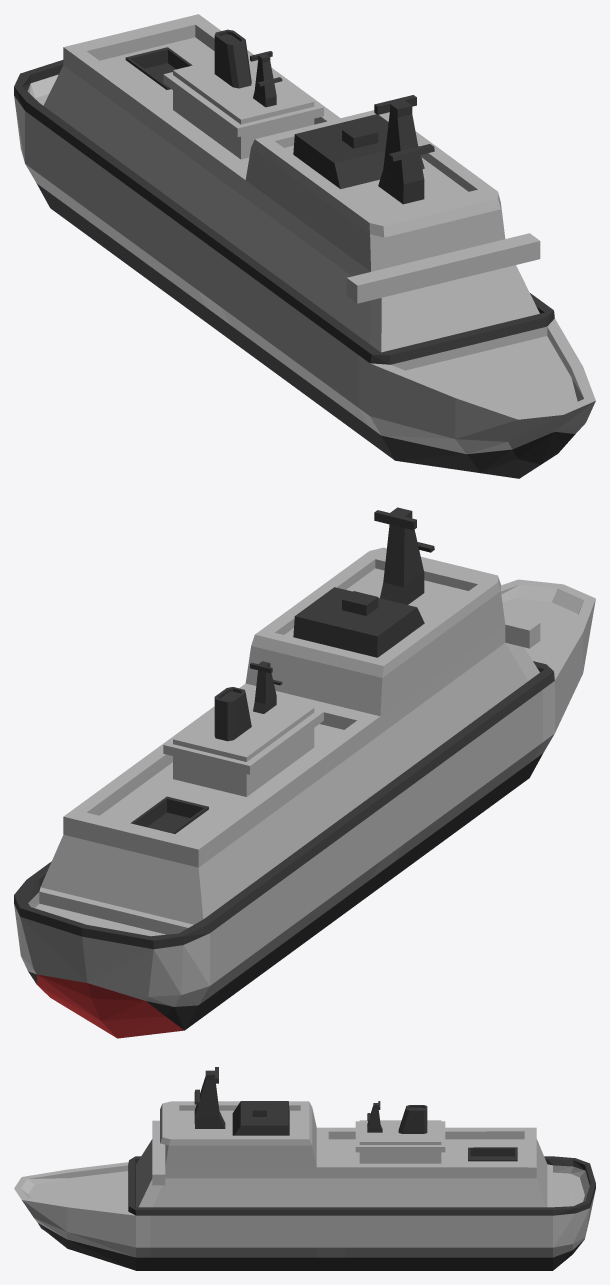
The model's file is cruise.glb.
The picture shows the model from 3 angles, top to bottom: view 1: azimuth 30°, elevation 25°; view 2: azimuth 150°, elevation 25°; view 3: azimuth 270°, elevation 25°; orthographic projection. The views are drawn at different scales.
Parts seen in each view (by area): view 1: model; view 2: model; view 3: model.
Part boxes in pixels (bbox=[...]): model: bbox=[14, 14, 595, 478]; model: bbox=[14, 507, 595, 1038]; model: bbox=[14, 1067, 595, 1270].
Size of the model in its own units: 0.6065 by 1 by 2.74.
